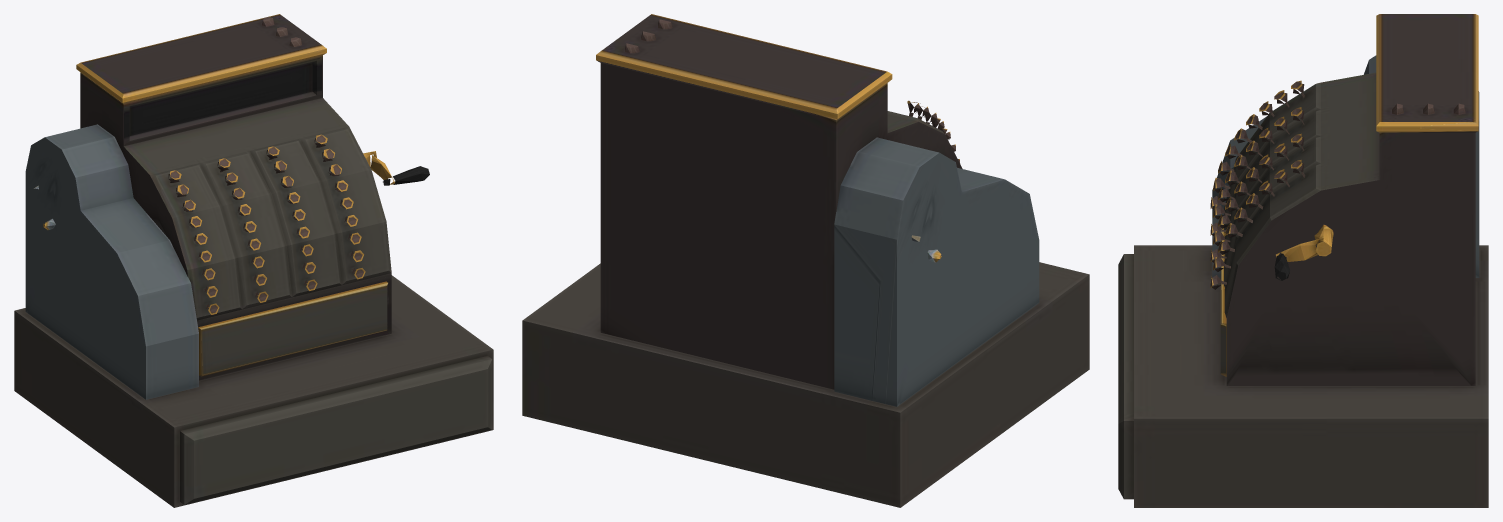
The model's file is yazarkasa.glb.
3 renders of one model, left to right at view 1: azimuth 30°, elevation 25°; view 2: azimuth 150°, elevation 25°; view 3: azimuth 270°, elevation 25°, orthographic. The views are drawn at different scales.
Visible parts, largest first — view 1: CashRegister_mesh; view 2: CashRegister_mesh; view 3: CashRegister_mesh.
Boxes of the visible parts, x1,y1,x2,y2 form: CashRegister_mesh: (14,14,493,507); CashRegister_mesh: (522,14,1089,507); CashRegister_mesh: (1118,14,1488,507).
Bounding box in the file's own units: 12.87 × 12.32 × 11.53.
1 material, 1 textured.
